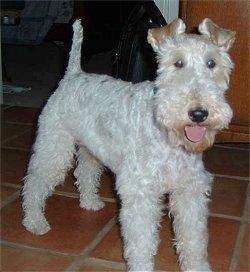wire-haired_fox_terrier: (21, 18, 233, 271)
